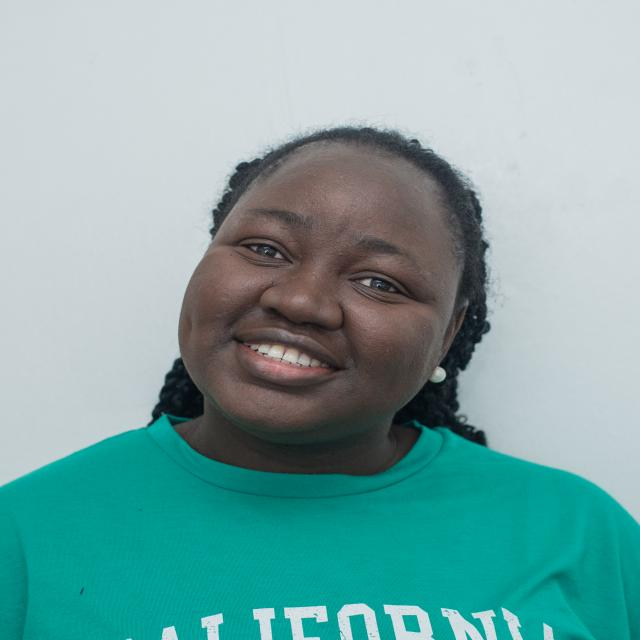happy: (168, 117, 474, 434)
